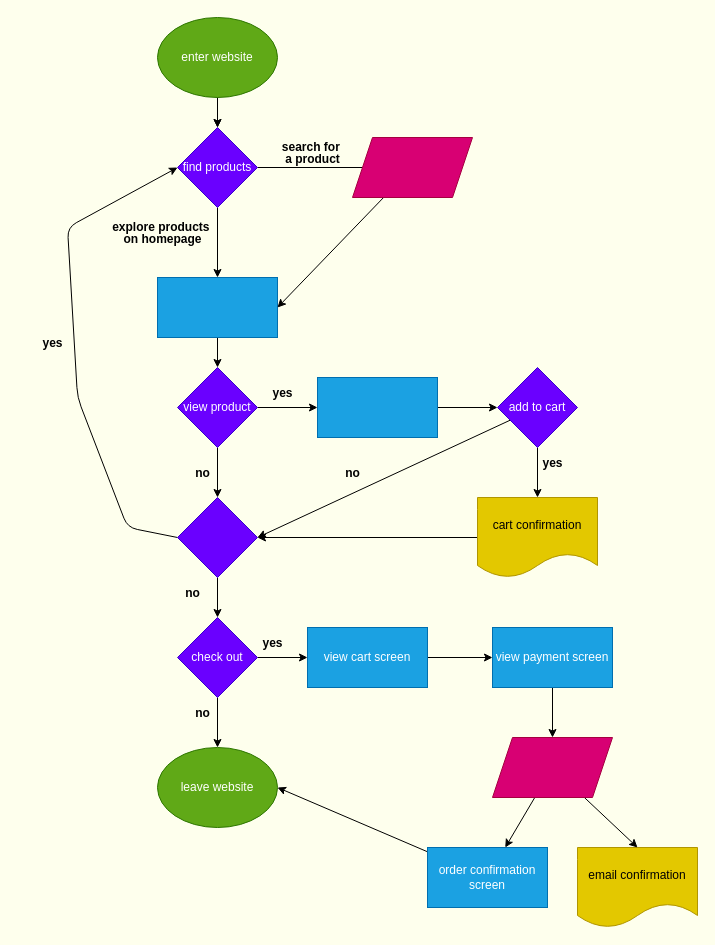
Image size: 715x945. Some labels were removed from this diagram. Each missing label, with the centre of its shape:
"continue shopping" belongs at point (217, 537).
"input payment information" belongs at point (552, 767).
"input search into website" belongs at point (412, 167).
"look over products" belongs at point (217, 307).
"product webpage" belongs at point (377, 407).
